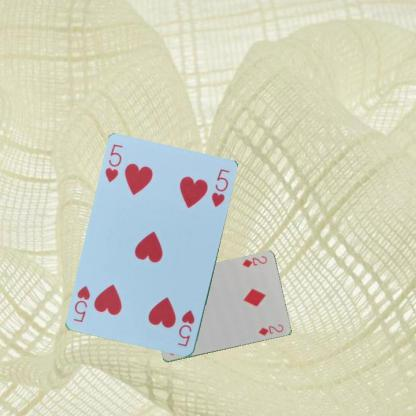2d: (239, 254, 268, 269)
5h: (102, 142, 124, 184), (175, 308, 197, 348)
